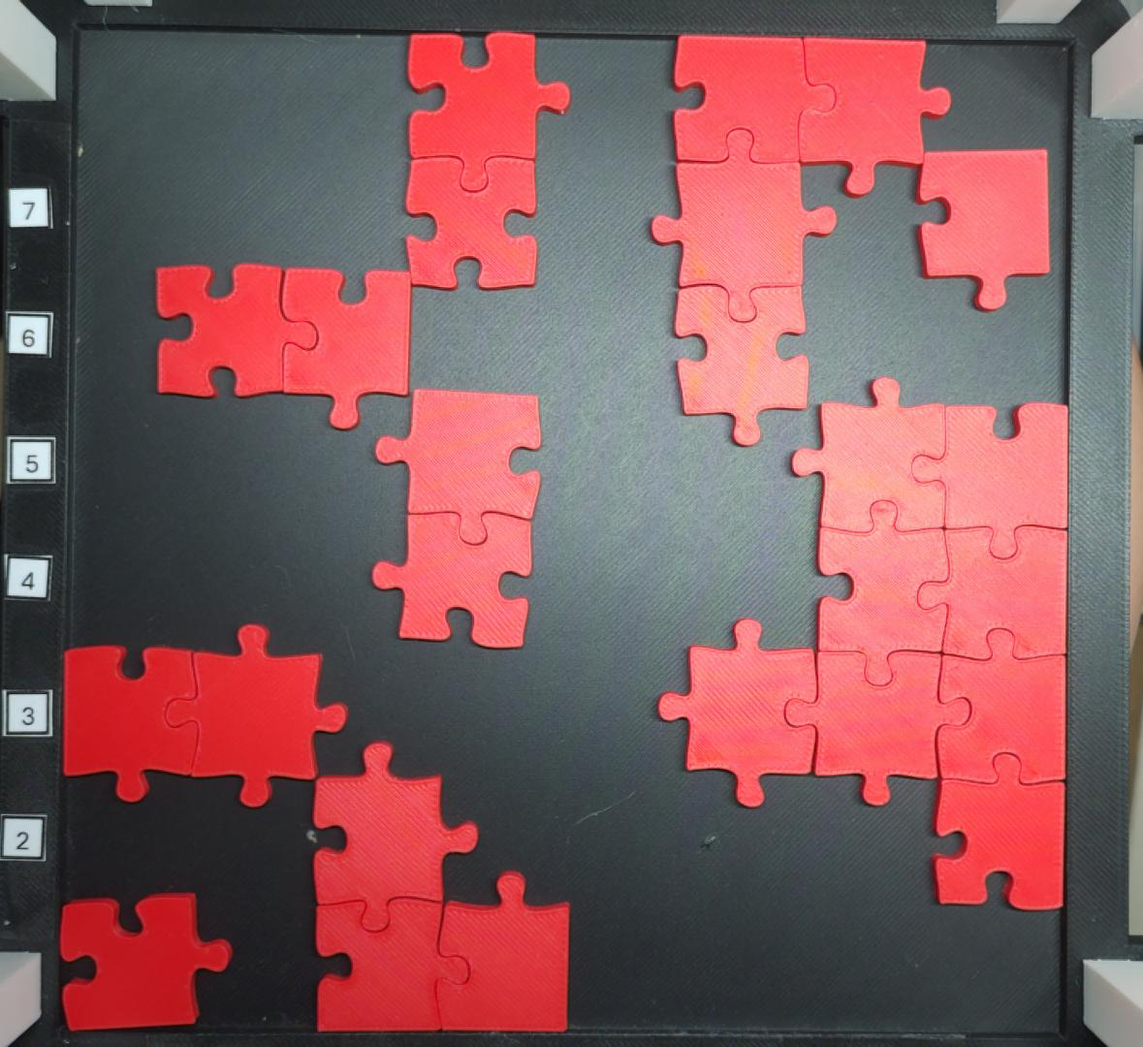p_1: (59, 892, 235, 1030), (917, 147, 1055, 310)
p_2: (61, 624, 347, 809), (372, 390, 544, 651), (400, 31, 571, 292), (154, 262, 411, 428)
p_3: (309, 743, 571, 1036)
p_4: (646, 35, 954, 448)
p_m: (653, 375, 1065, 915)
